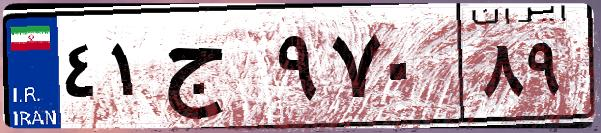0: (385, 28, 445, 110)
1: (110, 28, 158, 98)
4: (57, 26, 110, 100)
7: (330, 28, 385, 110)
8: (475, 38, 525, 113)
9: (270, 28, 330, 110), (525, 38, 570, 115)
ج: (158, 20, 270, 120)
